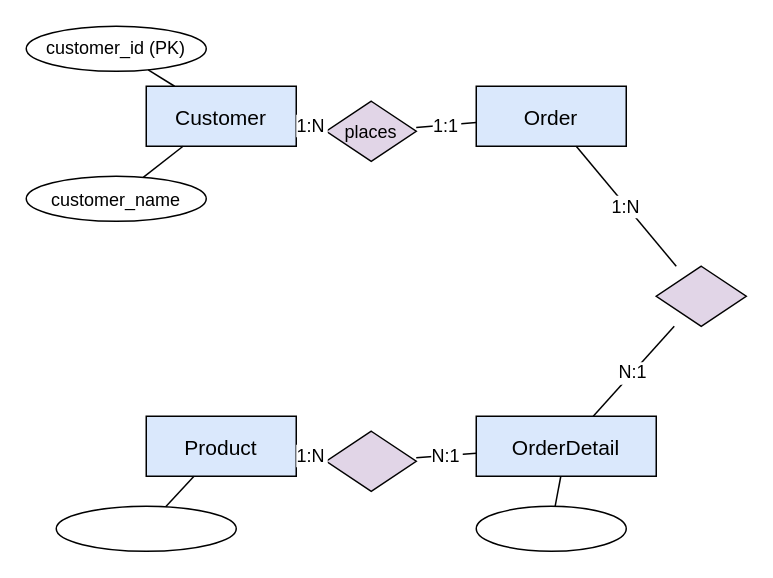
The diagram is 773 pixels wide and 578 high, and some of its shapes have lost their labels. The shapes that lost their labels are listed below. From the top down, each one's box as (x1, y1, x2, y2) in pixels, then its label:
(655, 265, 746, 326): contains
(325, 430, 416, 491): describes
(55, 505, 236, 551): product_id (PK)
(475, 505, 626, 551): quantity
